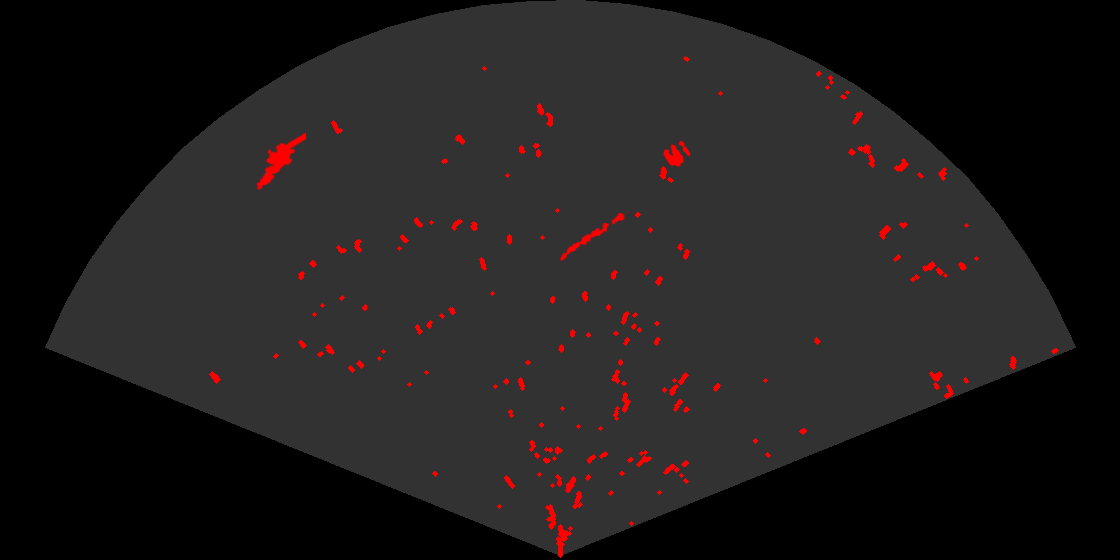ball: (662, 139, 692, 169)
chain: (558, 208, 630, 262)
frogman: (255, 133, 306, 191)
